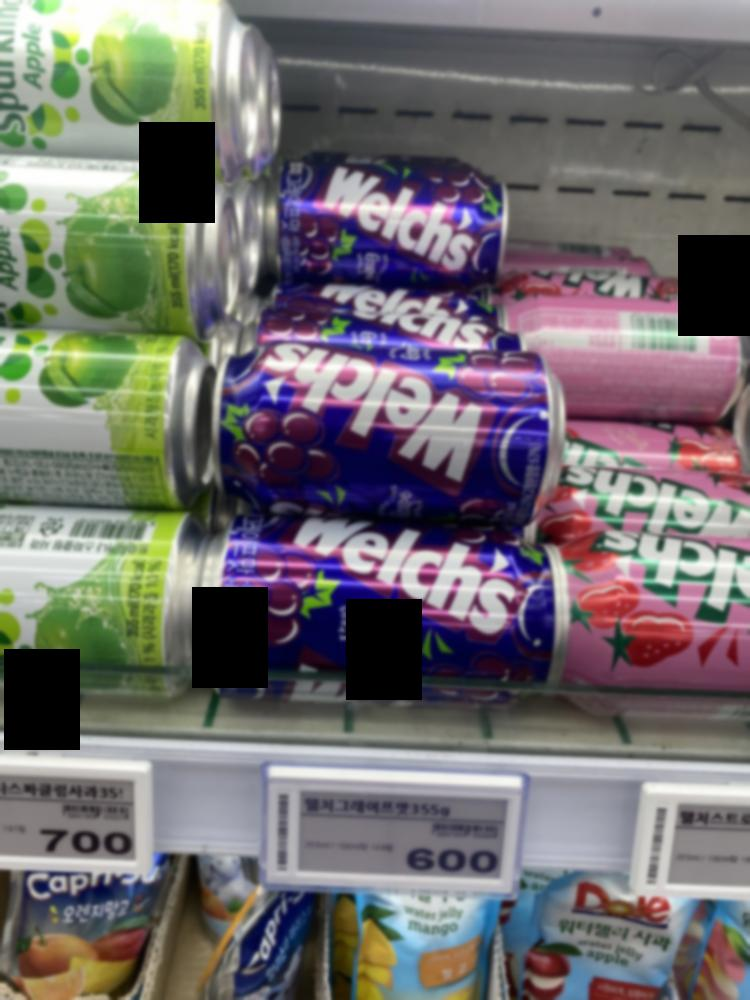welchs_grape: (201, 343, 589, 531), (263, 150, 513, 279)
